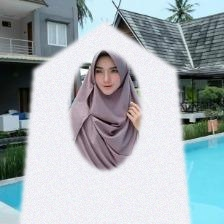Mukena: (17, 28, 193, 224)
